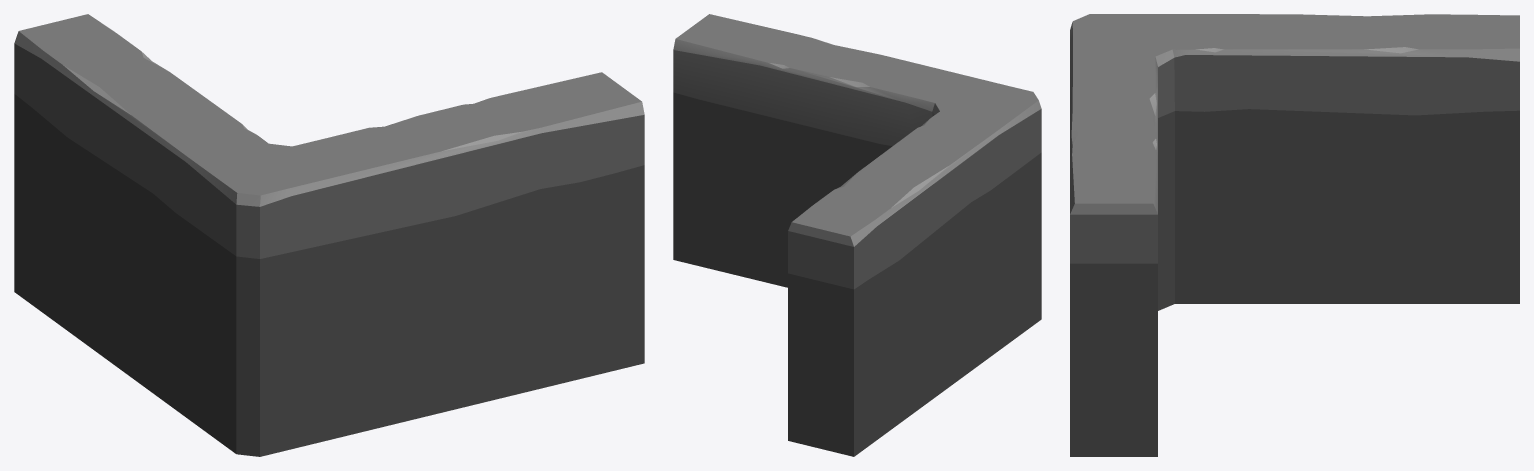
File: 20C_Kerb_01_conner.fbx
The picture shows the model from 3 angles, left to right: view 1: azimuth 30°, elevation 25°; view 2: azimuth 150°, elevation 25°; view 3: azimuth 270°, elevation 25°; orthographic projection. The views are drawn at different scales.
Parts seen in each view (by area): view 1: 20C_Kerb_01_conner; view 2: 20C_Kerb_01_conner; view 3: 20C_Kerb_01_conner.
Boxes of the visible parts, box(x1,y1,x2,y2) form: 20C_Kerb_01_conner: box(14, 14, 644, 456); 20C_Kerb_01_conner: box(673, 14, 1041, 456); 20C_Kerb_01_conner: box(1070, 14, 1519, 456).
Size of the model in its own units: 22.17 by 13.8 by 22.17.
